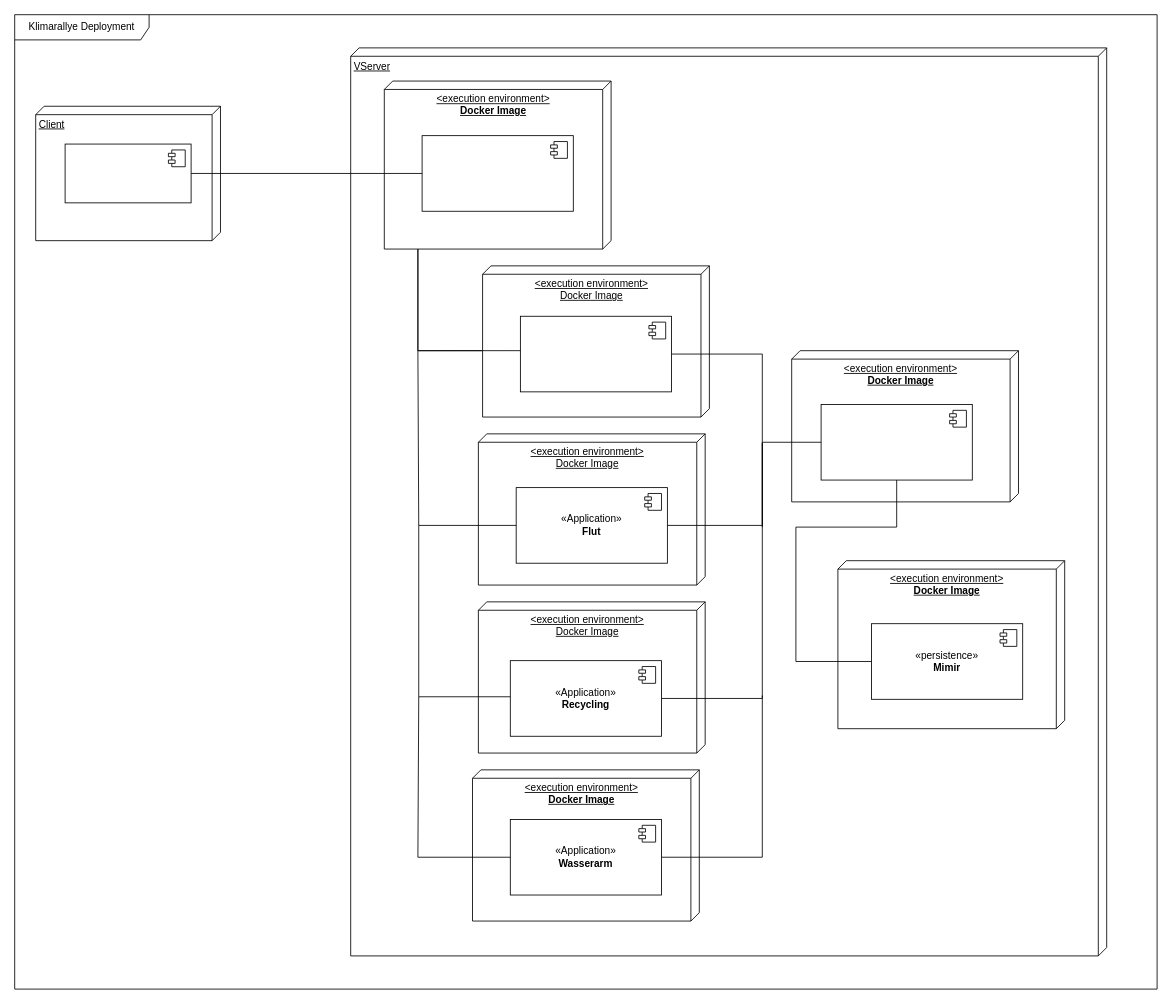
Some shapes in this 1172 by 1004 pixel diagram are drawn without their labels. Each missing label, with the centre of its shape:
"Browser" belongs at point 127,173.
"«Application» Asgard" belongs at point 896,442.
"«Application» Hub" belongs at point 596,353.
"«Application» Midgard" belongs at point 497,173.
